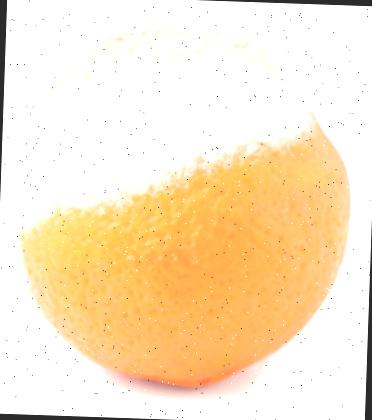Orange Rotten: (7, 5, 360, 401)
